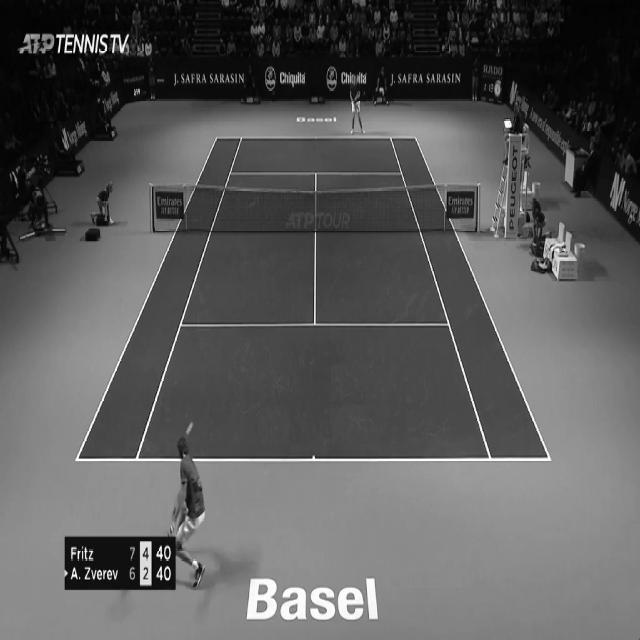tennis-court: (74, 136, 552, 462)
